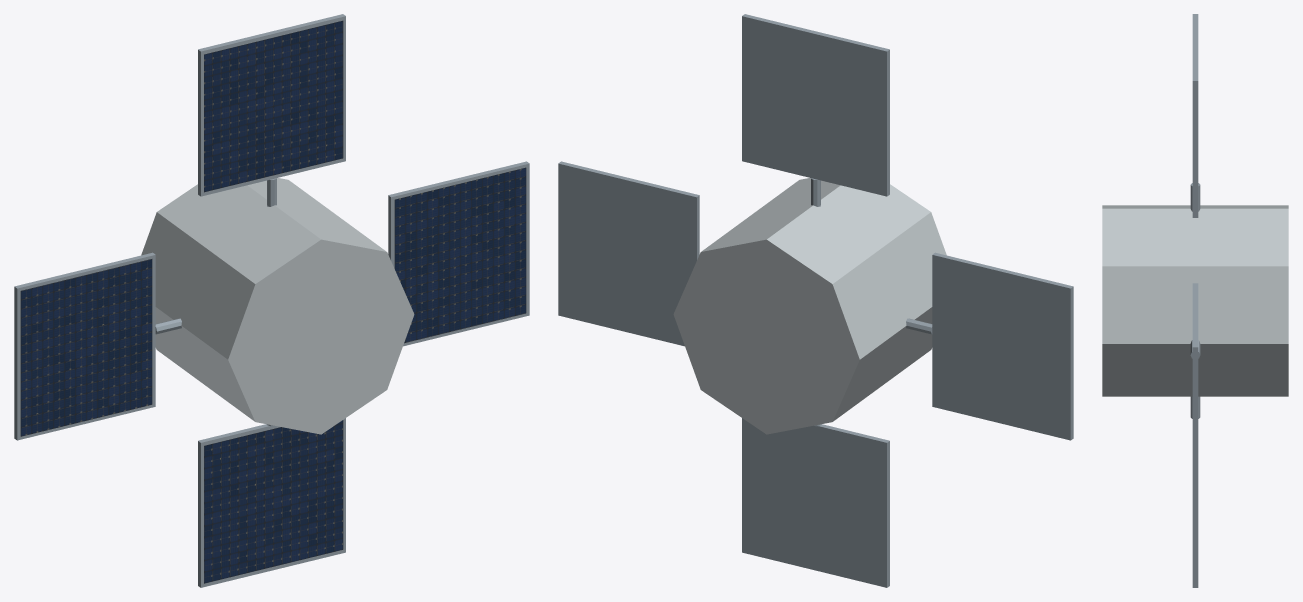
The model's file is ref-sj-2-12845.glb.
The picture shows the model from 3 angles, left to right: view 1: azimuth 30°, elevation 25°; view 2: azimuth 150°, elevation 25°; view 3: azimuth 270°, elevation 25°; orthographic projection. The views are drawn at different scales.
Parts seen in each view (by area): view 1: Photovoltaic laminates (×4), Spacecraft body, Array frame (×4); view 2: Array frame (×4), Spacecraft body; view 3: Spacecraft body, Array frame (×3).
Part boxes in pixels (x1,y1,x2,y2): Photovoltaic laminates (×4): (20,20,526,583); Spacecraft body: (141,178,414,434); Array frame (×4): (14,14,529,587); Array frame (×4): (558,14,1073,587); Spacecraft body: (673,178,946,434); Spacecraft body: (1102,205,1288,396); Array frame (×3): (1192,14,1198,587).
Size of the model in its own units: 3.3 by 3.3 by 1.1.
Materials: 3 (1 with a texture image).
